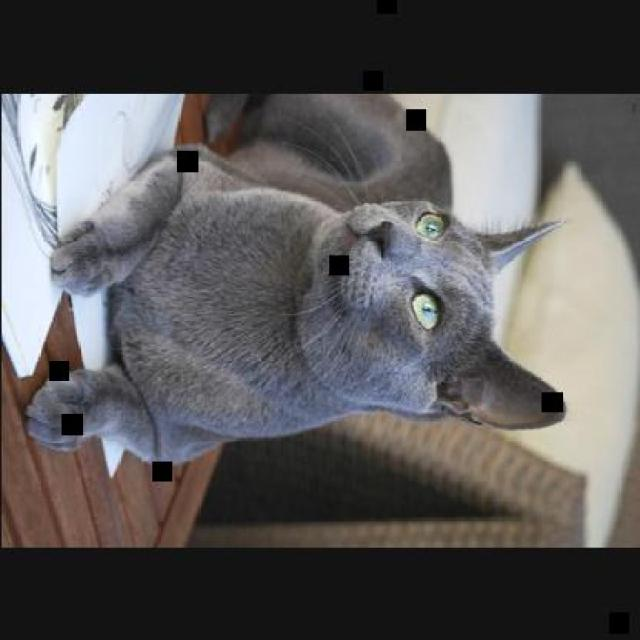unauthorized: (23, 92, 566, 471)
